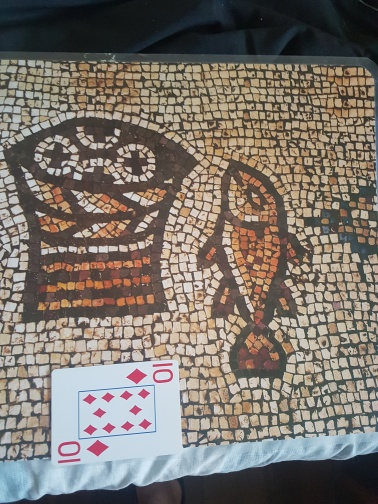ten: (51, 359, 182, 465)
